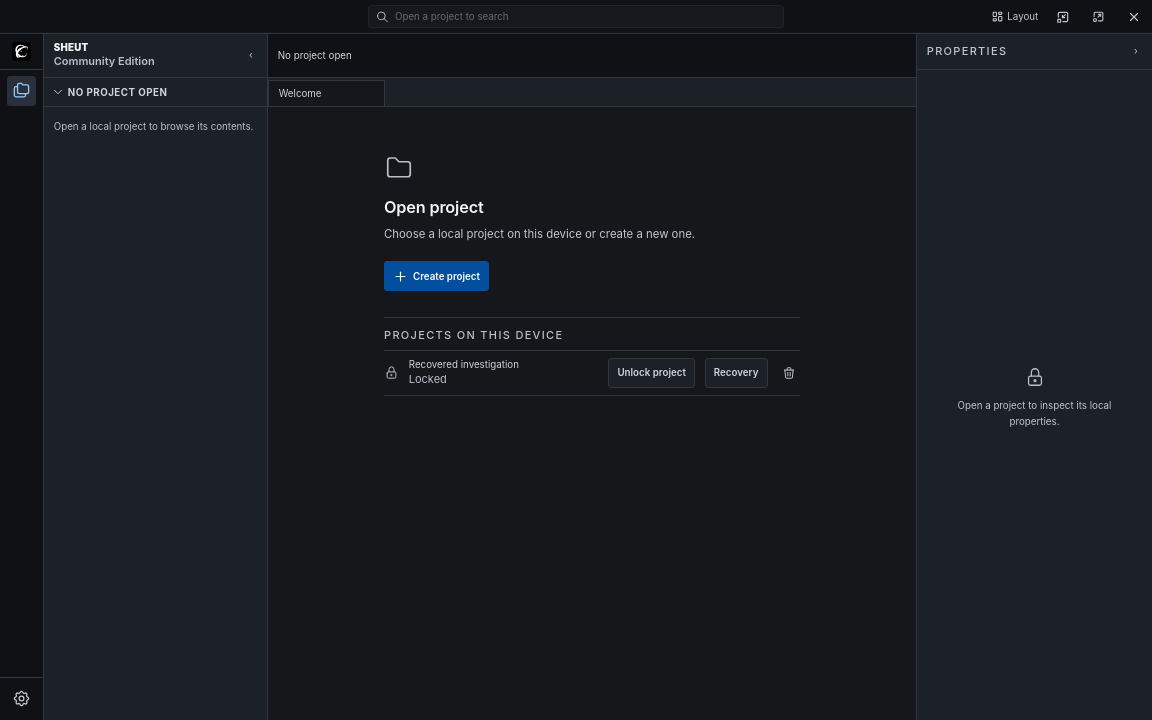
App › discovers a locked project by name instead of UUID and unlocks it
Expected: the text "Recovered investigation" is shown, [409,359,519,370]
Expected: the text "019b0dc2-34c8-7c31-a2e5-c447222ce0b9" is not shown
Click the button "Unlock project".
click(652, 373)  # box [608,358,695,388]
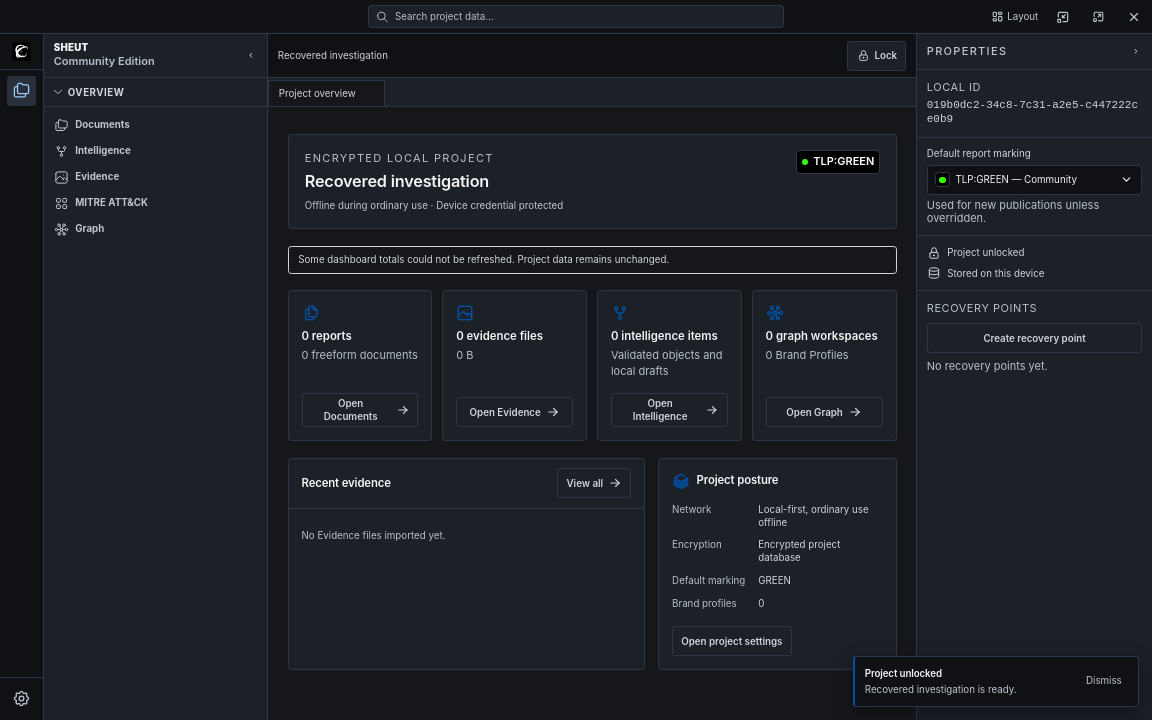
Result: the text "Recovered investigation" is shown at [278,49,388,62]
Result: the button "Lock" is enabled at [847,40,906,70]
Result: the dialog "Project unlocked" is shown at [853,656,1139,707]
